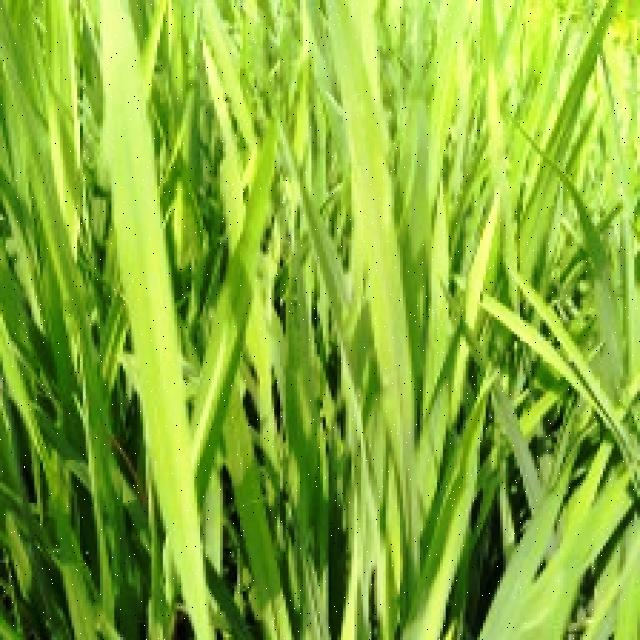health: (308, 0, 475, 640)
